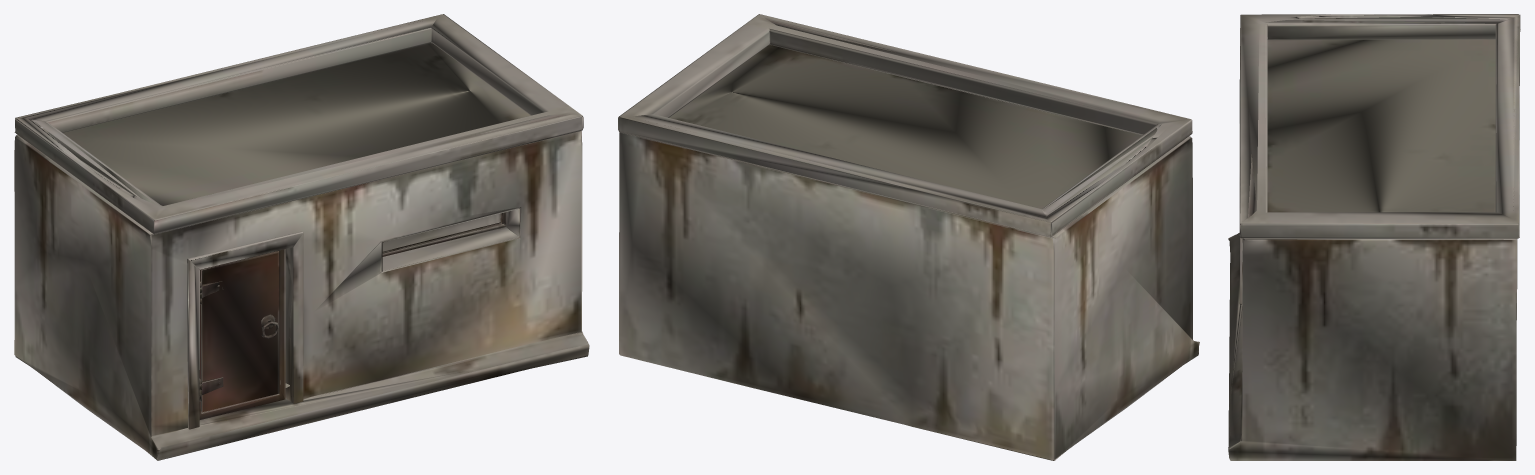
File: shelter.glb
The picture shows the model from 3 angles, left to right: view 1: azimuth 30°, elevation 25°; view 2: azimuth 150°, elevation 25°; view 3: azimuth 270°, elevation 25°; orthographic projection.
Bounding box in the file's own units: 0.9546 × 0.5044 × 0.5601.
1 material, 1 textured.
